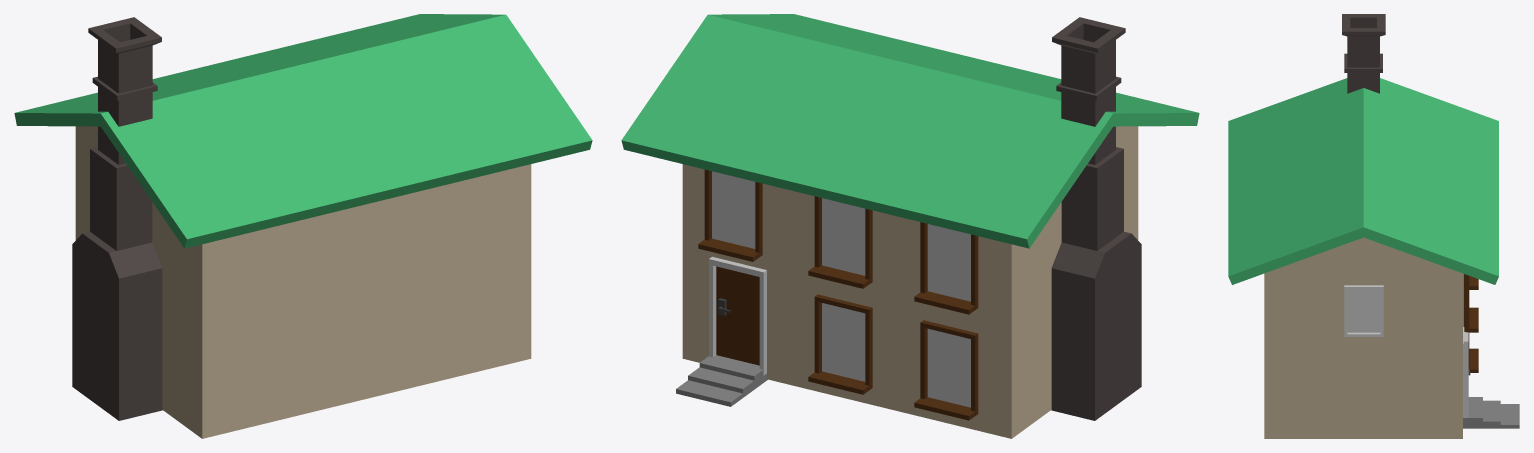
The model's file is house 2.fbx.
The picture shows the model from 3 angles, left to right: view 1: azimuth 30°, elevation 25°; view 2: azimuth 150°, elevation 25°; view 3: azimuth 270°, elevation 25°; orthographic projection. The views are drawn at different scales.
Parts seen in each view (by area): view 1: MainForm, Chimney; view 2: MainForm, Chimney, Door, WindowBorder_2, WindowBorder, WindowBorder_4, WindowBorder_5, WindowBorder_3, stair3, stair2, stair1, WindowBoard_2 (+4 smaller); view 3: MainForm, Chimney, SideWindow, stair3, stair2, Door, stair1, WindowBorder_5.
Boxes of the visible parts, x1,y1,x2,y2 form: MainForm: [14, 14, 592, 438]; Chimney: [72, 17, 162, 420]; MainForm: [621, 14, 1199, 438]; Chimney: [1051, 17, 1141, 420]; Door: [709, 256, 766, 375]; WindowBorder_2: [814, 294, 872, 389]; WindowBorder: [920, 320, 978, 415]; WindowBorder_4: [814, 196, 872, 284]; WindowBorder_5: [704, 169, 762, 257]; WindowBorder_3: [920, 222, 978, 309]; stair3: [676, 376, 767, 406]; stair2: [688, 367, 766, 393]; stair1: [699, 355, 763, 380]; WindowBoard_2: [808, 372, 869, 394]; MainForm: [1228, 78, 1498, 438]; Chimney: [1342, 14, 1385, 93]; SideWindow: [1344, 285, 1383, 336]; stair3: [1463, 404, 1519, 428]; stair2: [1463, 400, 1500, 425]; Door: [1463, 327, 1468, 417]; stair1: [1463, 397, 1482, 421]; WindowBorder_5: [1463, 273, 1469, 331].
Size of the model in its own units: 374 by 317 by 293.
